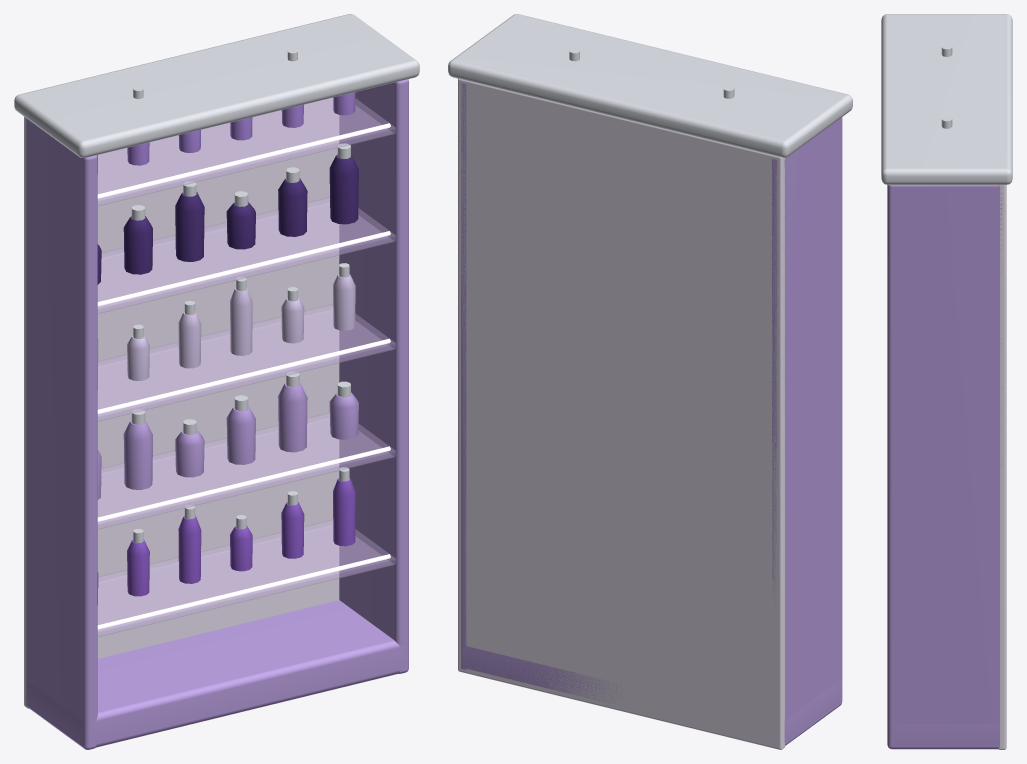
The model's file is product_shelf_glass.glb.
The picture shows the model from 3 angles, left to right: view 1: azimuth 30°, elevation 25°; view 2: azimuth 150°, elevation 25°; view 3: azimuth 270°, elevation 25°; orthographic projection. The views are drawn at different scales.
Parts seen in each view (by area): view 1: product_shelf_glass; view 2: product_shelf_glass; view 3: product_shelf_glass.
Part boxes in pixels (left/top/right/bottom): product_shelf_glass: left=14, top=14, right=419, bottom=749; product_shelf_glass: left=448, top=14, right=852, bottom=749; product_shelf_glass: left=881, top=14, right=1012, bottom=749.
Bounding box in the file's own units: 1.26 × 2.19 × 0.44.
